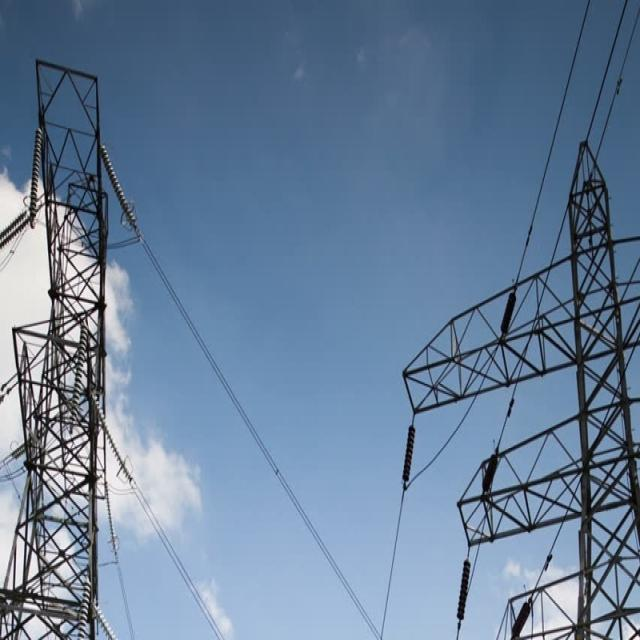non-critical vegetation: (397, 120, 638, 632), (18, 43, 102, 632)
